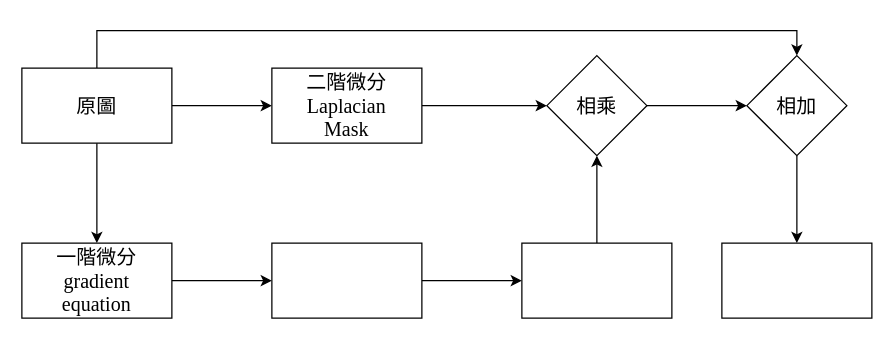
Some shapes in this 894 by 340 pixel diagram are drawn without their labels. The shapes that lost their labels are listed below. From the top down, each one's centre as x and y in pixels, then its label:
At [346,280]: "積分 Gaussian Blur".
At [596,280]: "正規化".
At [796,280]: "結果".
